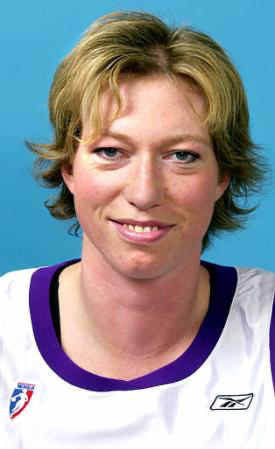Face: (62, 82, 216, 277)
